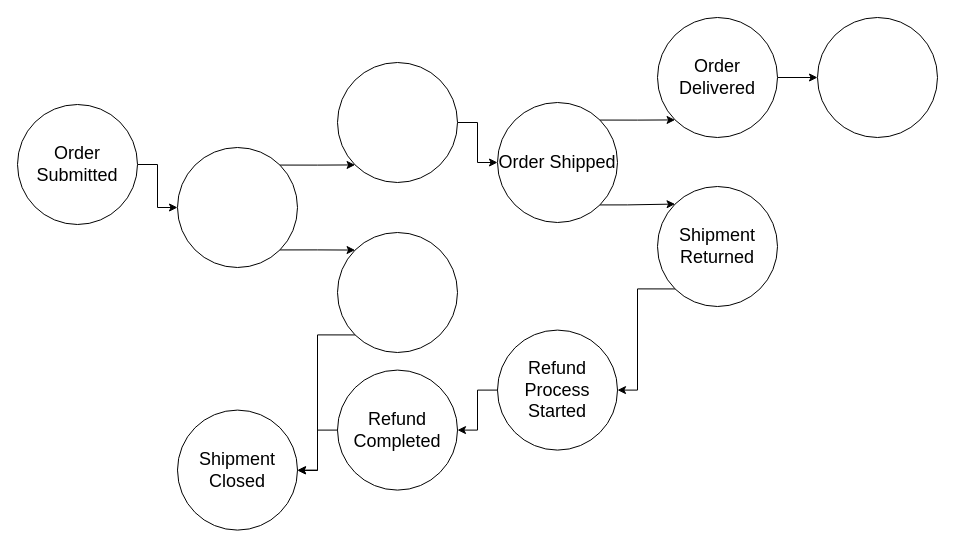
Image size: 955x548. Some labels were removed from this diagram. The box of each missing label's shape, as (x1, y1, x2, y2) in pixels:
Order Completed: (816, 16, 938, 138)
Payment Completed: (336, 62, 458, 182)
Payment Failed: (336, 232, 458, 352)
Payment Process Started: (176, 146, 298, 268)
